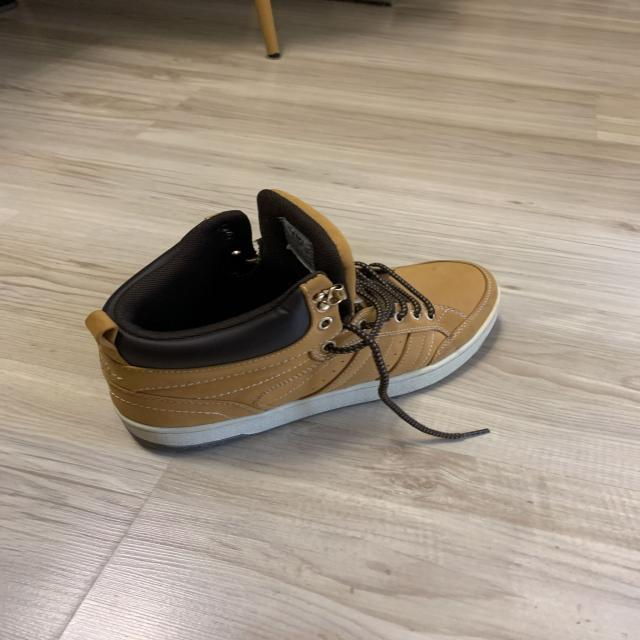shoe: (96, 184, 504, 455)
